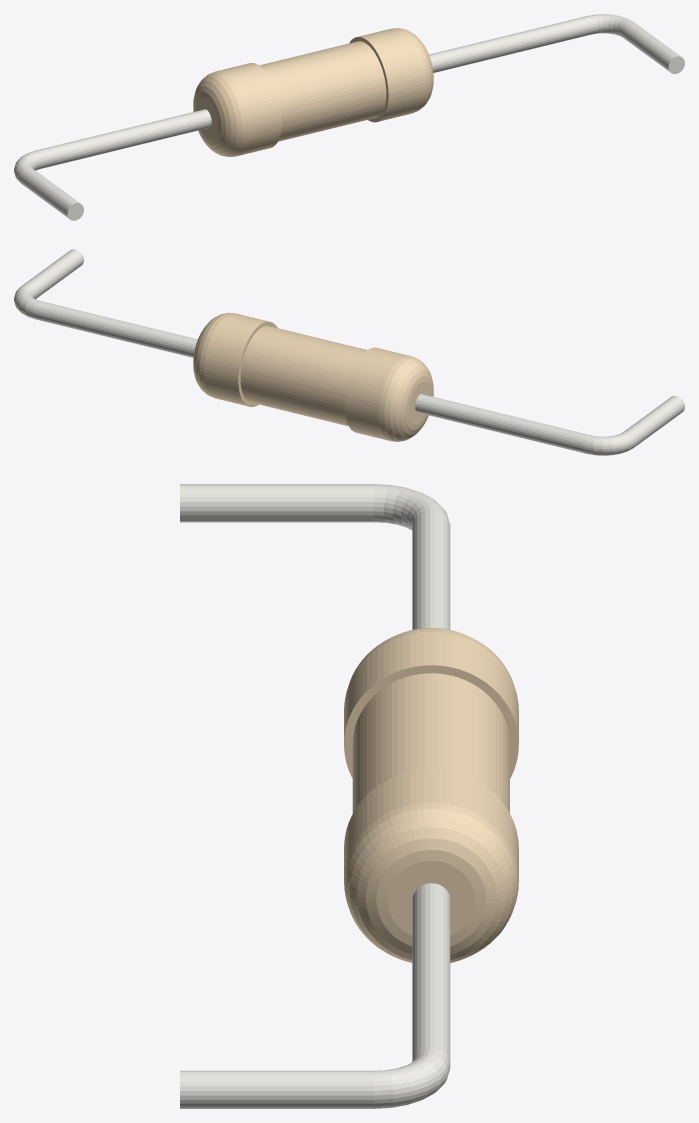
The model's file is R_Axial_DIN0309_L9.0mm_D3.2mm_P25.40mm_Horizontal.glb.
3 renders of one model, top to bottom at view 1: azimuth 30°, elevation 25°; view 2: azimuth 150°, elevation 25°; view 3: azimuth 270°, elevation 25°, orthographic. The views are drawn at different scales.
Parts seen in each view (by area): view 1: Shape_IndexedFaceSet.004, Shape_IndexedFaceSet.013, Shape_IndexedFaceSet.005, Shape_IndexedFaceSet, Shape_IndexedFaceSet.008, Shape_IndexedFaceSet.010, Shape_IndexedFaceSet.009, Shape_IndexedFaceSet.015, Shape_IndexedFaceSet.001, Shape_IndexedFaceSet.007, Shape_IndexedFaceSet.014, Shape_IndexedFaceSet.012 (+1 smaller); view 2: Shape_IndexedFaceSet.004, Shape_IndexedFaceSet.013, Shape_IndexedFaceSet.005, Shape_IndexedFaceSet.008, Shape_IndexedFaceSet, Shape_IndexedFaceSet.010, Shape_IndexedFaceSet.015, Shape_IndexedFaceSet.009, Shape_IndexedFaceSet.014, Shape_IndexedFaceSet.001, Shape_IndexedFaceSet.007, Shape_IndexedFaceSet.012 (+1 smaller); view 3: Shape_IndexedFaceSet.001, Shape_IndexedFaceSet.004, Shape_IndexedFaceSet.009, Shape_IndexedFaceSet.015, Shape_IndexedFaceSet.005, Shape_IndexedFaceSet, Shape_IndexedFaceSet.008, Shape_IndexedFaceSet.013, Shape_IndexedFaceSet.003, Shape_IndexedFaceSet.007, Shape_IndexedFaceSet.006, Shape_IndexedFaceSet.014.
Part boxes in pixels (bbox=[...]): Shape_IndexedFaceSet.004: bbox=[259, 41, 386, 141]; Shape_IndexedFaceSet.013: bbox=[36, 109, 211, 168]; Shape_IndexedFaceSet.005: bbox=[429, 16, 593, 72]; Shape_IndexedFaceSet: bbox=[358, 28, 422, 121]; Shape_IndexedFaceSet.008: bbox=[217, 63, 281, 156]; Shape_IndexedFaceSet.010: bbox=[193, 71, 247, 156]; Shape_IndexedFaceSet.009: bbox=[620, 21, 680, 72]; Shape_IndexedFaceSet.015: bbox=[19, 167, 80, 218]; Shape_IndexedFaceSet.001: bbox=[393, 28, 433, 112]; Shape_IndexedFaceSet.007: bbox=[588, 14, 632, 36]; Shape_IndexedFaceSet.014: bbox=[14, 150, 42, 181]; Shape_IndexedFaceSet.012: bbox=[196, 97, 217, 139]; Shape_IndexedFaceSet.004: bbox=[240, 326, 367, 426]; Shape_IndexedFaceSet.013: bbox=[415, 394, 590, 453]; Shape_IndexedFaceSet.005: bbox=[33, 300, 197, 357]; Shape_IndexedFaceSet.008: bbox=[345, 347, 409, 440]; Shape_IndexedFaceSet: bbox=[204, 313, 268, 406]; Shape_IndexedFaceSet.010: bbox=[379, 356, 433, 441]; Shape_IndexedFaceSet.015: bbox=[624, 395, 684, 446]; Shape_IndexedFaceSet.009: bbox=[23, 249, 83, 299]; Shape_IndexedFaceSet.014: bbox=[584, 431, 636, 455]; Shape_IndexedFaceSet.001: bbox=[193, 312, 232, 396]; Shape_IndexedFaceSet.007: bbox=[14, 284, 38, 318]; Shape_IndexedFaceSet.012: bbox=[409, 382, 430, 424]; Shape_IndexedFaceSet.001: bbox=[344, 802, 518, 962]; Shape_IndexedFaceSet.004: bbox=[352, 673, 509, 813]; Shape_IndexedFaceSet.009: bbox=[180, 1070, 373, 1108]; Shape_IndexedFaceSet.015: bbox=[180, 484, 373, 522]; Shape_IndexedFaceSet.005: bbox=[412, 883, 450, 1061]; Shape_IndexedFaceSet: bbox=[344, 769, 518, 880]; Shape_IndexedFaceSet.008: bbox=[344, 631, 518, 742]; Shape_IndexedFaceSet.013: bbox=[412, 510, 450, 629]; Shape_IndexedFaceSet.003: bbox=[387, 860, 474, 935]; Shape_IndexedFaceSet.007: bbox=[374, 1048, 450, 1108]; Shape_IndexedFaceSet.006: bbox=[344, 665, 518, 778]; Shape_IndexedFaceSet.014: bbox=[374, 484, 448, 530].
Size of the model in its own units: 10.27 by 1.26 by 2.44.
